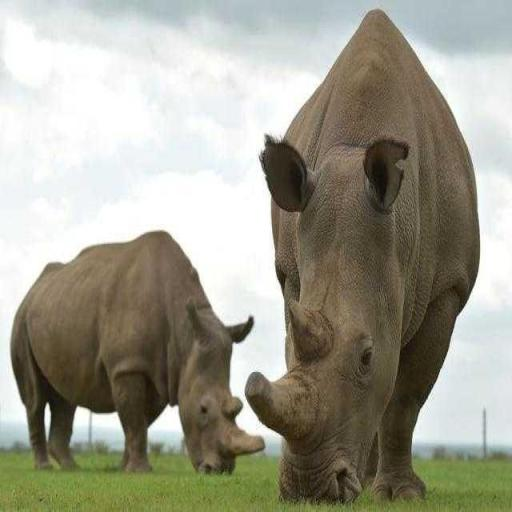Rhino: (243, 7, 481, 504), (9, 228, 265, 476)
